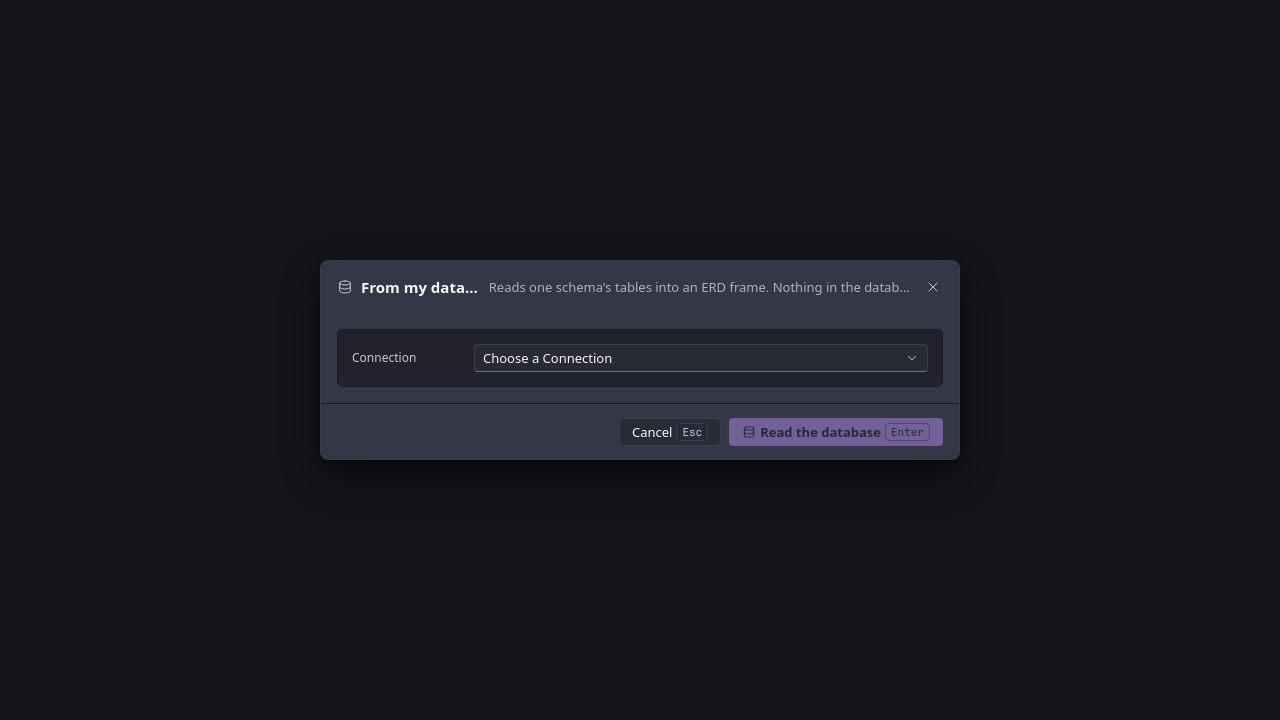
Test: the_table_count_has_grouping_commas
Click the dropdown labelled "Connection" at (548, 358), box top-left (474, 344), bottom-right (928, 372)
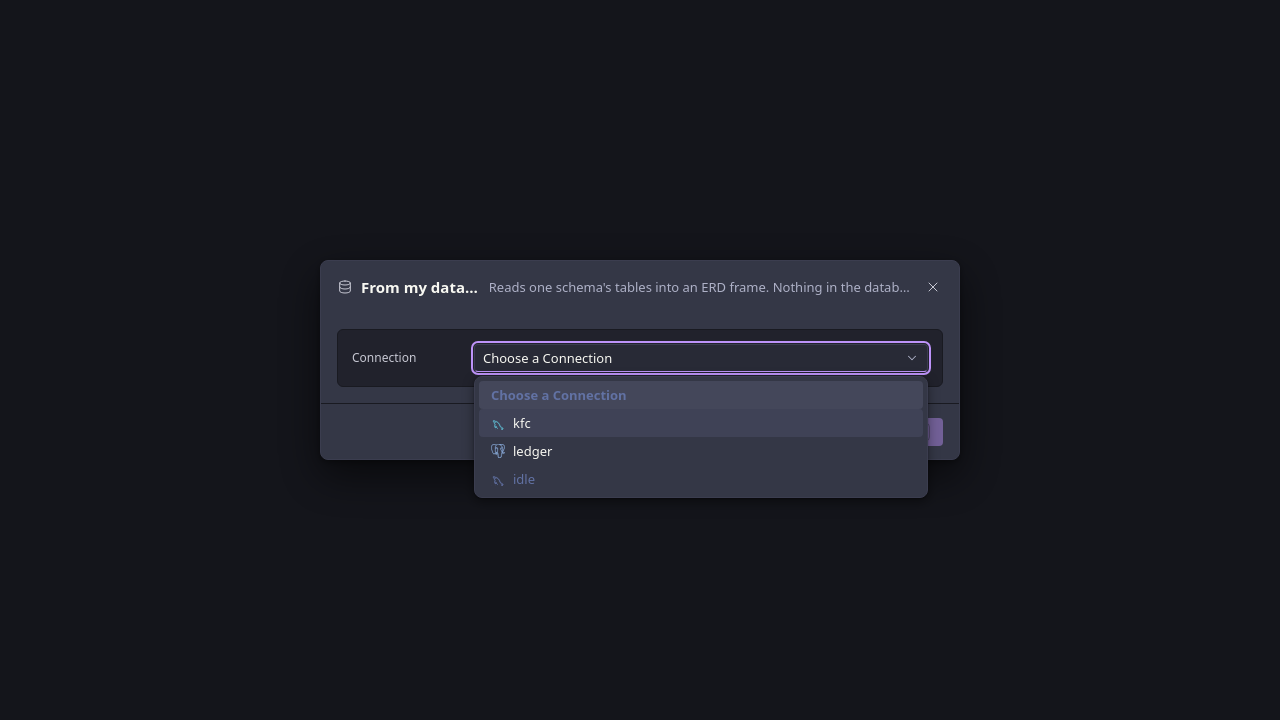
Click the option "kfc" at (498, 423), box top-left (479, 409), bottom-right (923, 437)
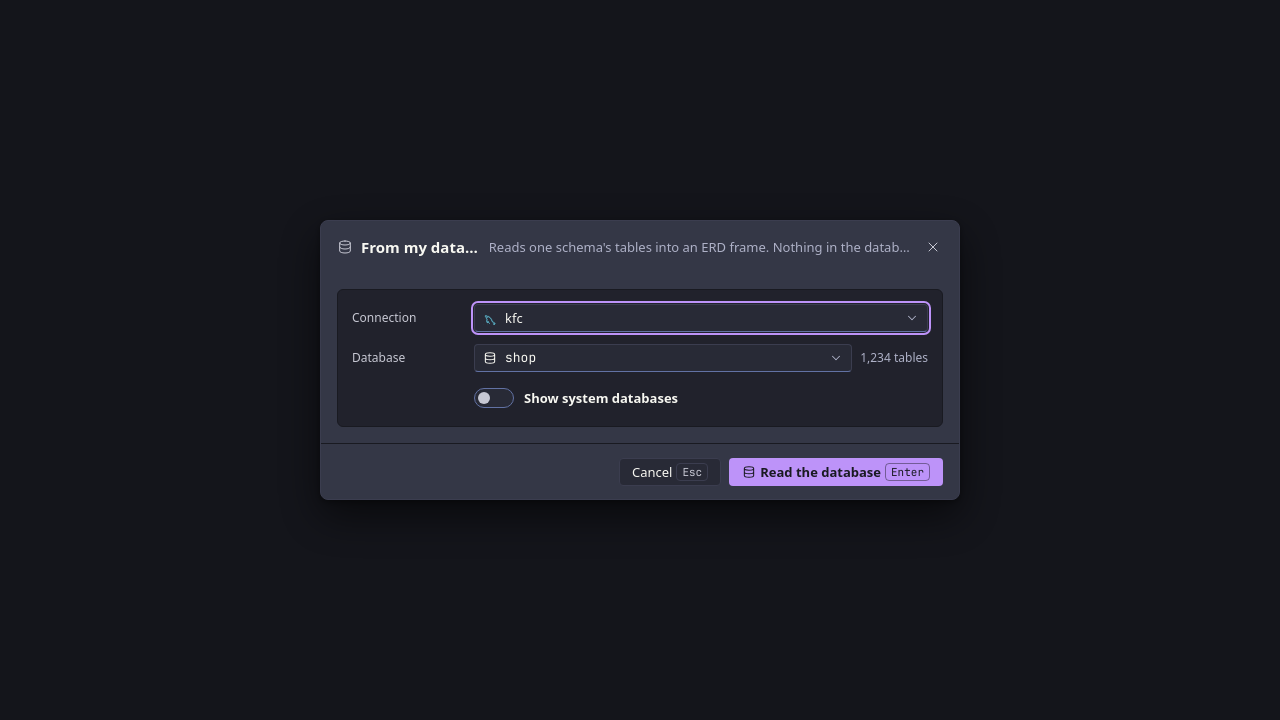
Expected: the text "1,234 tables" is shown, top-left (860, 350), bottom-right (928, 366)
